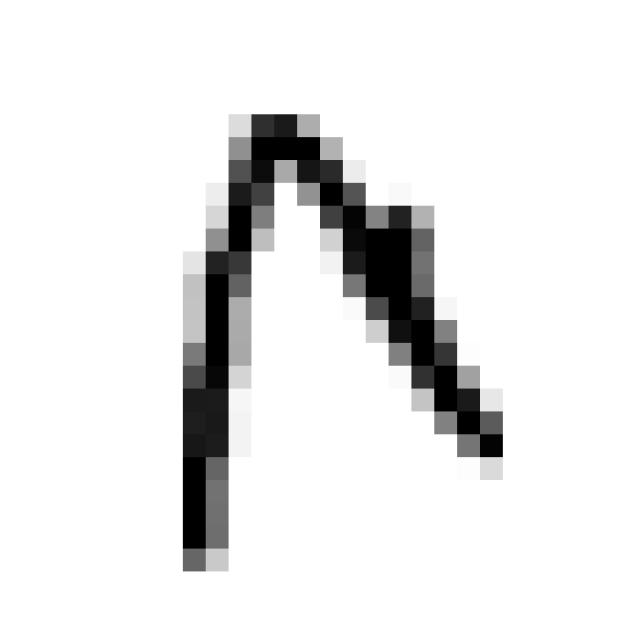8 -eight-: (158, 87, 520, 583)
